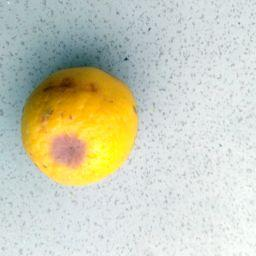Unripe: (21, 69, 137, 186)
